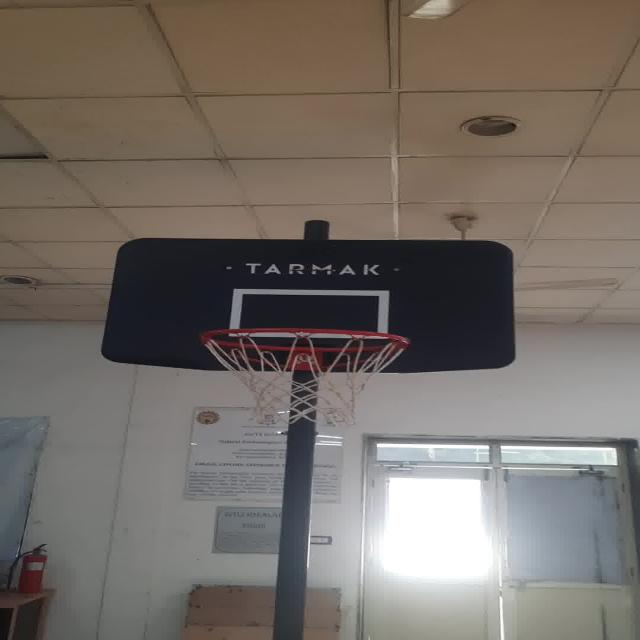objects: (190, 328, 417, 420), (235, 289, 389, 333)
